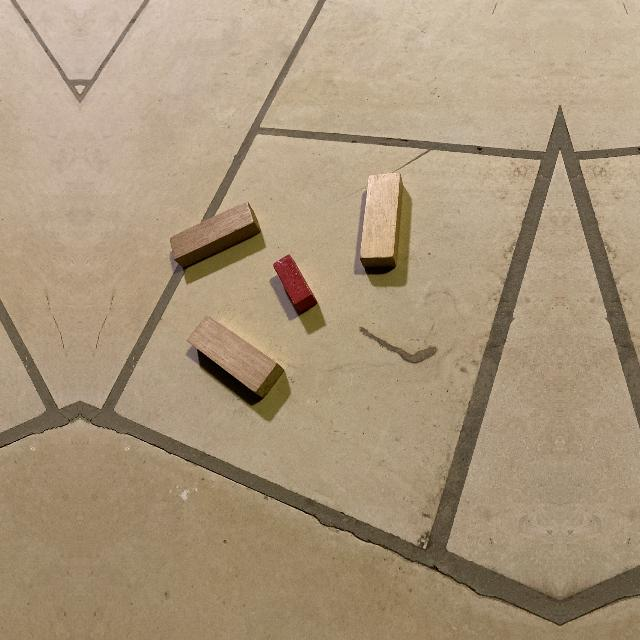jenga: (187, 317, 284, 398), (170, 202, 262, 271), (360, 173, 403, 273)
red block: (273, 254, 318, 315)
